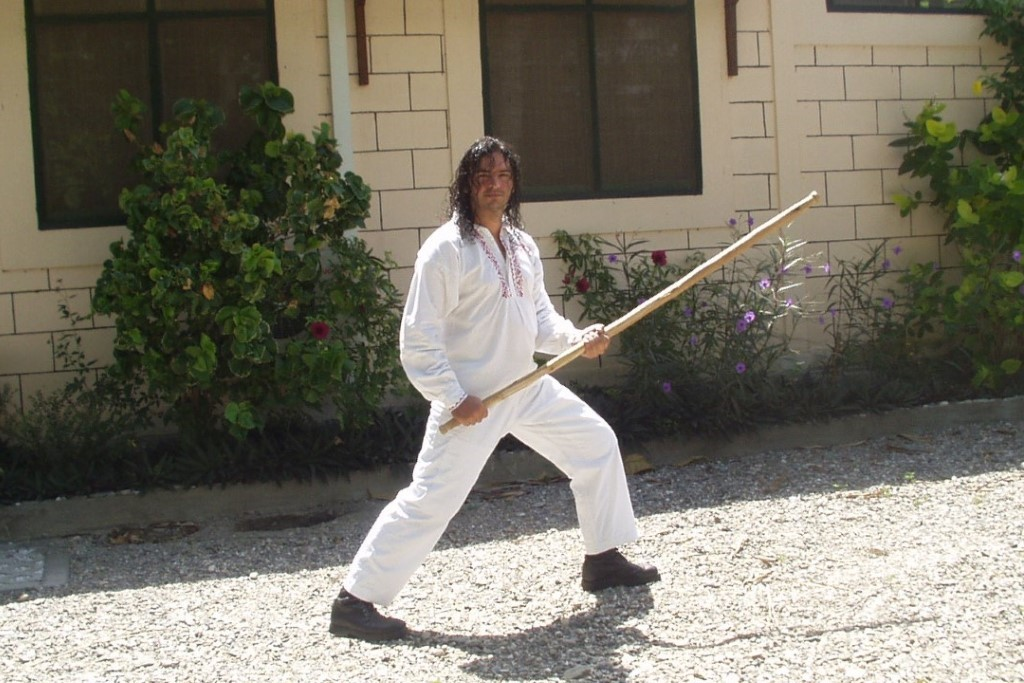baston_e: (612, 193, 809, 339)
baston_v: (800, 186, 825, 205), (432, 420, 453, 441)
